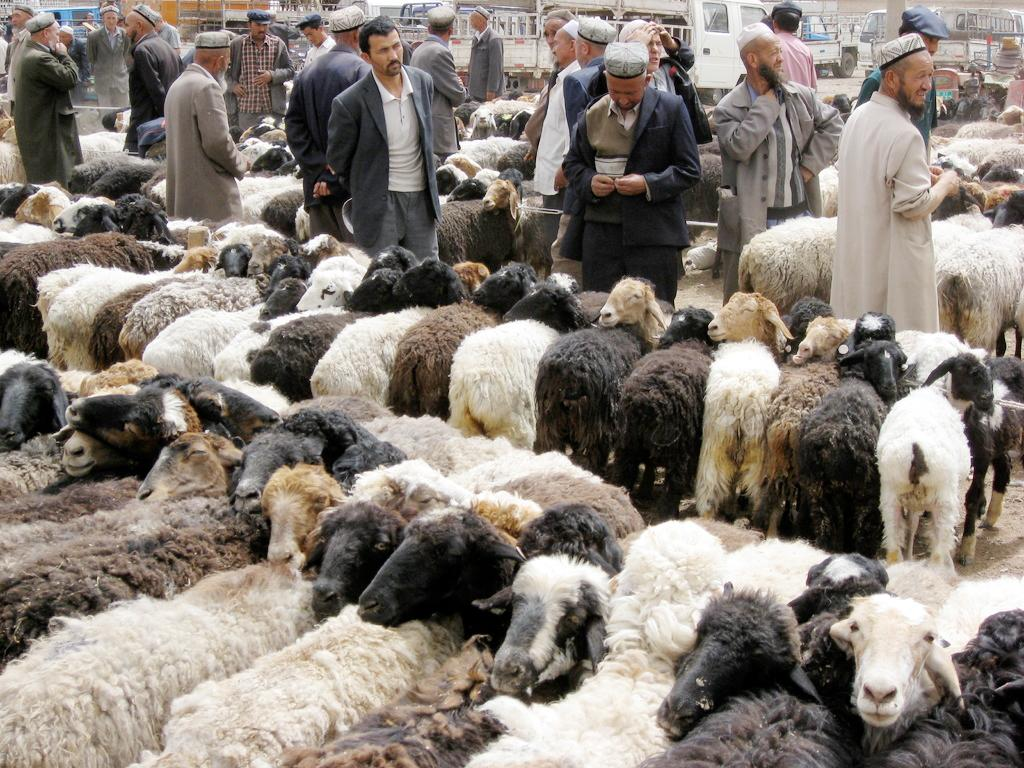Sheep: (0, 458, 479, 768), (476, 531, 874, 706), (4, 467, 353, 591), (825, 544, 1024, 754), (306, 486, 536, 662), (0, 379, 291, 505), (54, 222, 287, 353), (873, 331, 977, 588), (36, 220, 274, 326), (140, 254, 342, 378), (227, 408, 412, 528), (540, 286, 656, 476), (687, 290, 785, 506), (35, 264, 219, 372), (813, 311, 897, 536), (629, 286, 714, 504), (387, 298, 509, 422), (776, 300, 837, 531), (309, 308, 436, 406), (318, 412, 510, 474), (934, 220, 1024, 348), (738, 215, 840, 310), (477, 181, 567, 273), (162, 376, 280, 444), (426, 187, 521, 268), (55, 186, 176, 249), (348, 458, 479, 510), (230, 174, 306, 247), (507, 273, 588, 336), (285, 394, 400, 432), (468, 262, 538, 319), (938, 137, 1024, 174), (456, 136, 529, 172), (468, 106, 496, 139)
